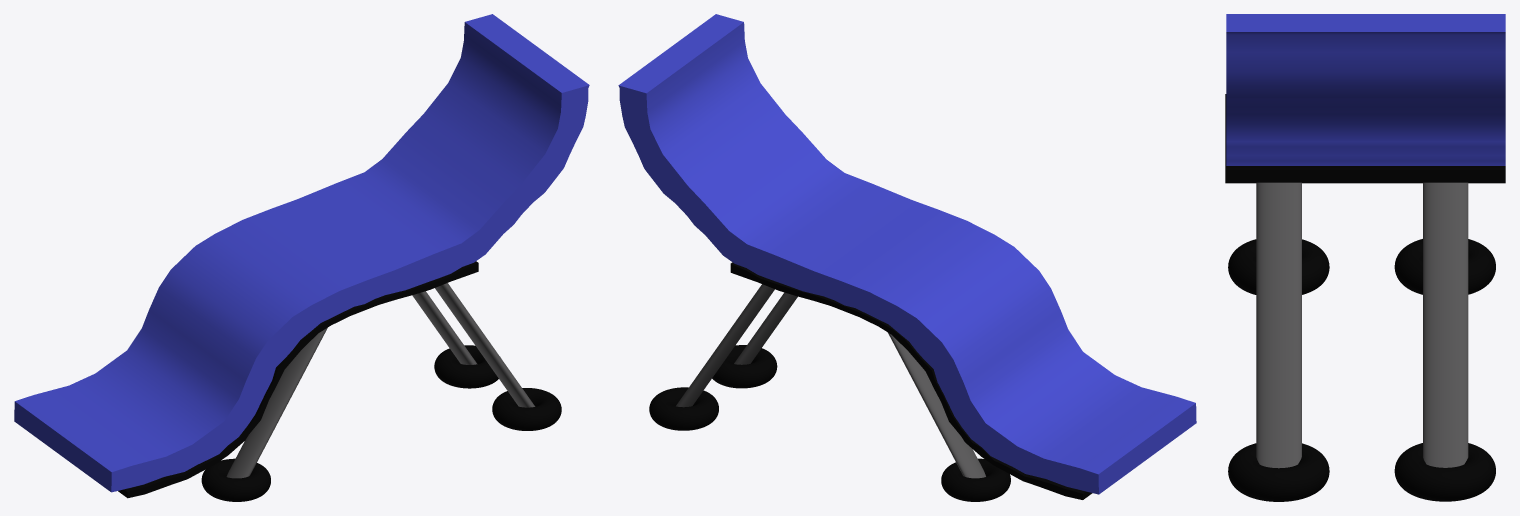
Rendered from Cecil.fbx.
3 renders of one model, left to right at view 1: azimuth 30°, elevation 25°; view 2: azimuth 150°, elevation 25°; view 3: azimuth 270°, elevation 25°, orthographic. The views are drawn at different scales.
Parts seen in each view (by area): view 1: root (×8); view 2: root (×8); view 3: root (×8).
Boxes of the visible parts, <box> form: root (×8): <box>14,14,589,501</box>; root (×8): <box>618,14,1196,501</box>; root (×8): <box>1225,14,1505,501</box>.
Bounding box in the file's own units: 0.4631 × 0.3122 × 0.1633.
Materials: 10 (10 with a texture image).
